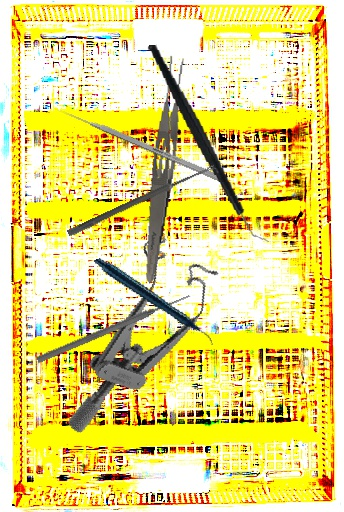Chopper: (146, 32, 273, 255)
Dressing Forceps: (140, 52, 189, 286)
Handpiece: (93, 232, 214, 373)
Pusher: (54, 104, 228, 185), (35, 290, 193, 366)
Speculum: (65, 220, 227, 460)
Surgical Spoon: (66, 162, 217, 238)
